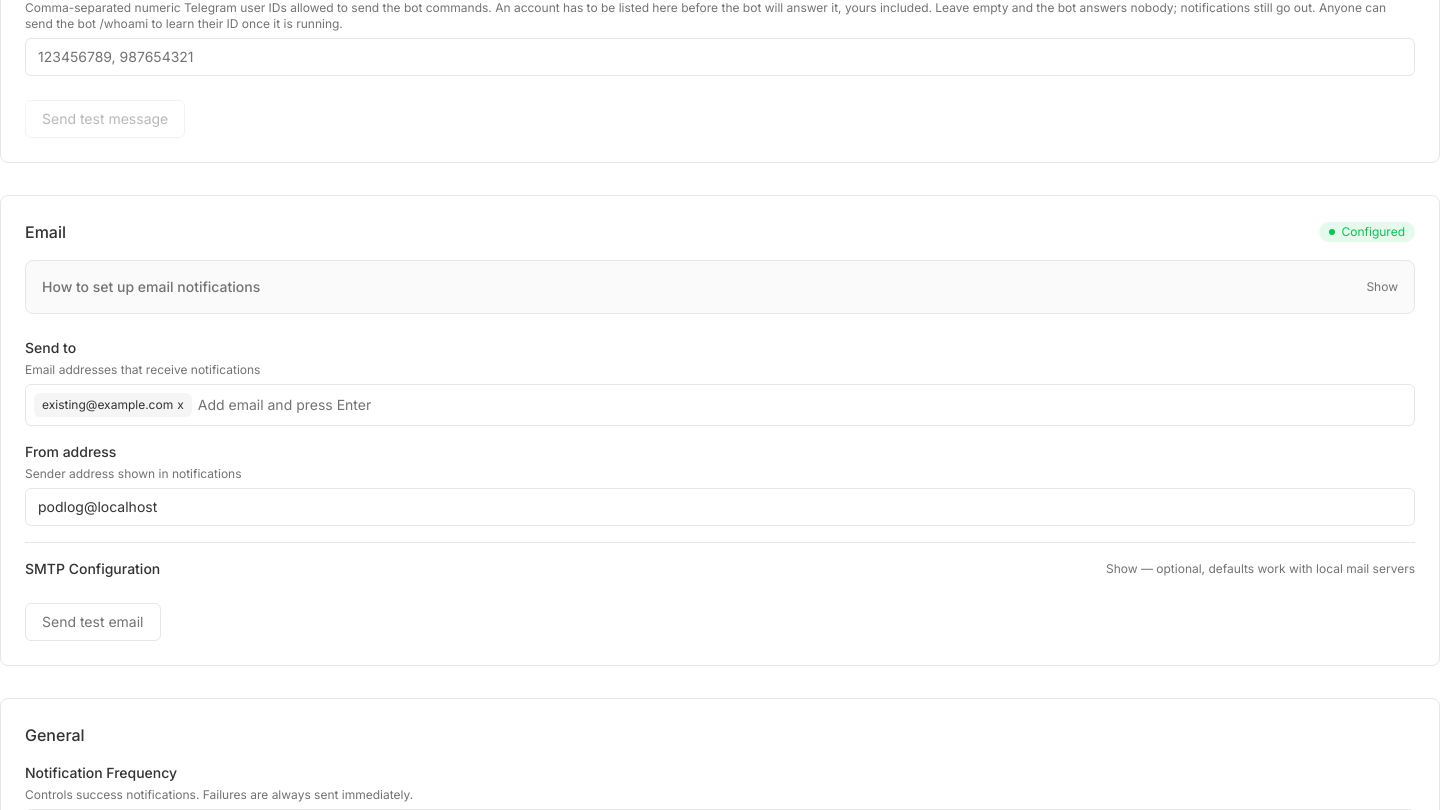
Scenario: Email tag input › adds a valid email on Enter
(page scrolled)
Check: the text "existing@example.com" is shown, box [42,397,173,412]
Step 1. Type "new@example.com" into the field with placeholder "Add email and press Enter" → (802, 405), box [198,391,1406,419]
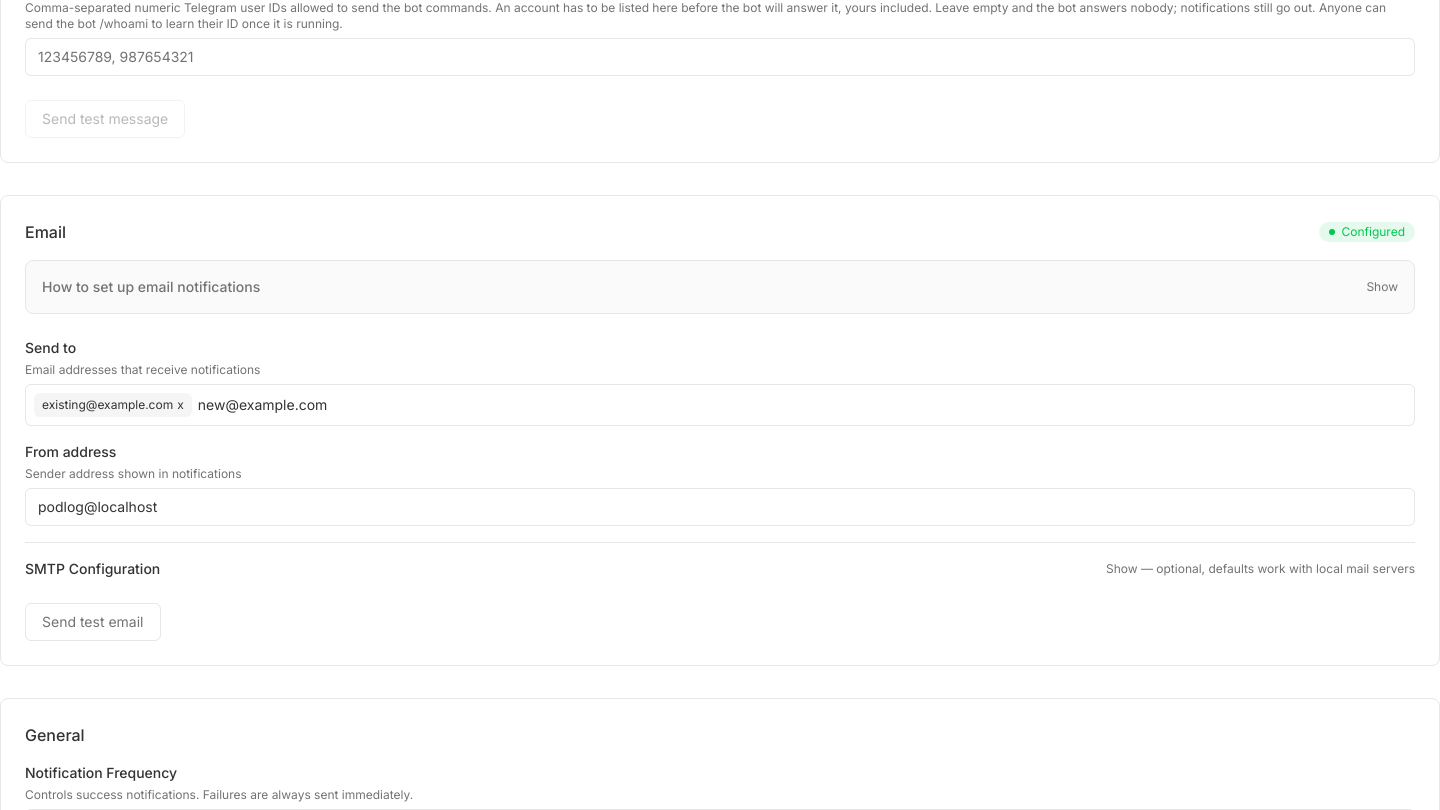
Step 2. Press Enter in the field with placeholder "Add email and press Enter", box [198,391,1406,419]
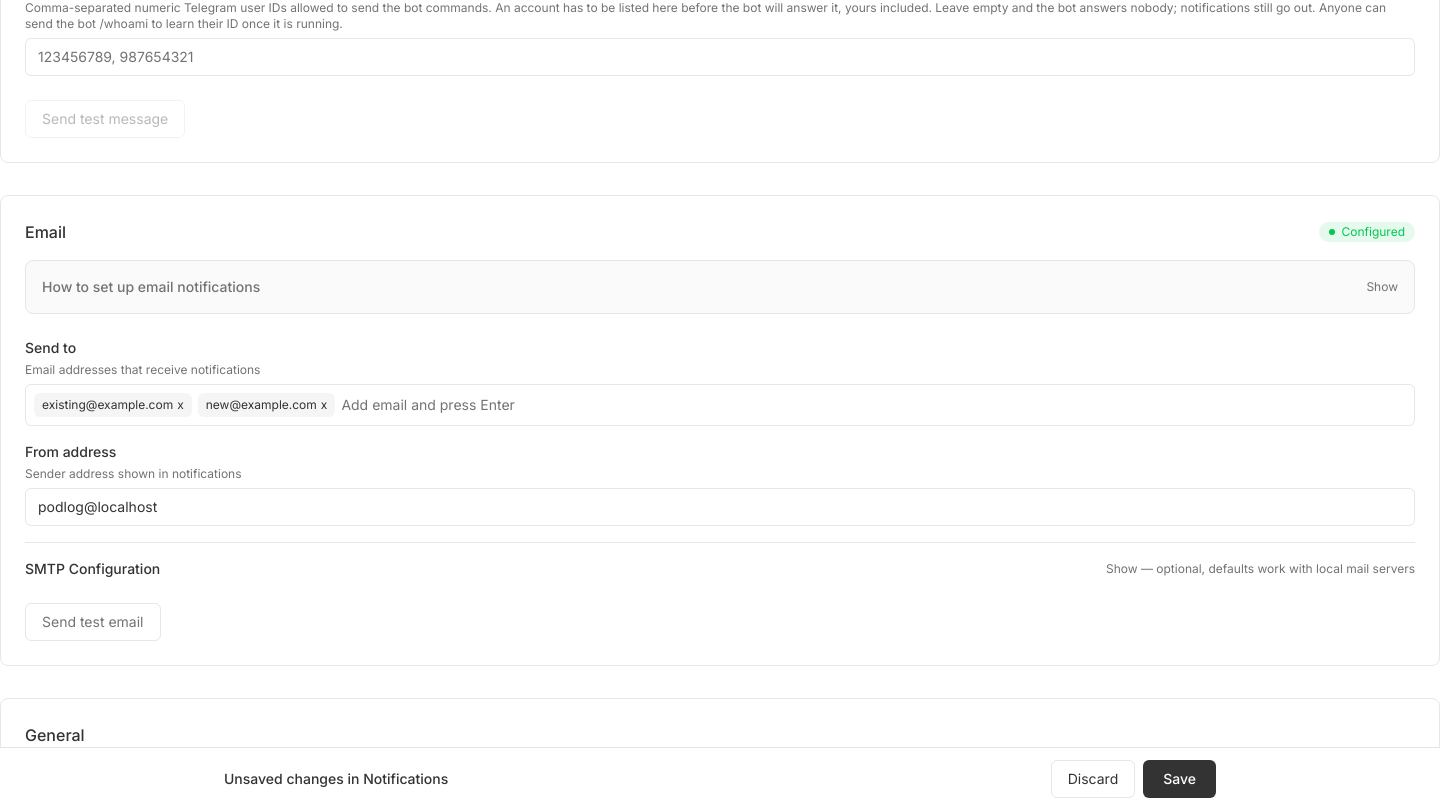
Check: the text "new@example.com" is shown, box [206,397,317,412]
